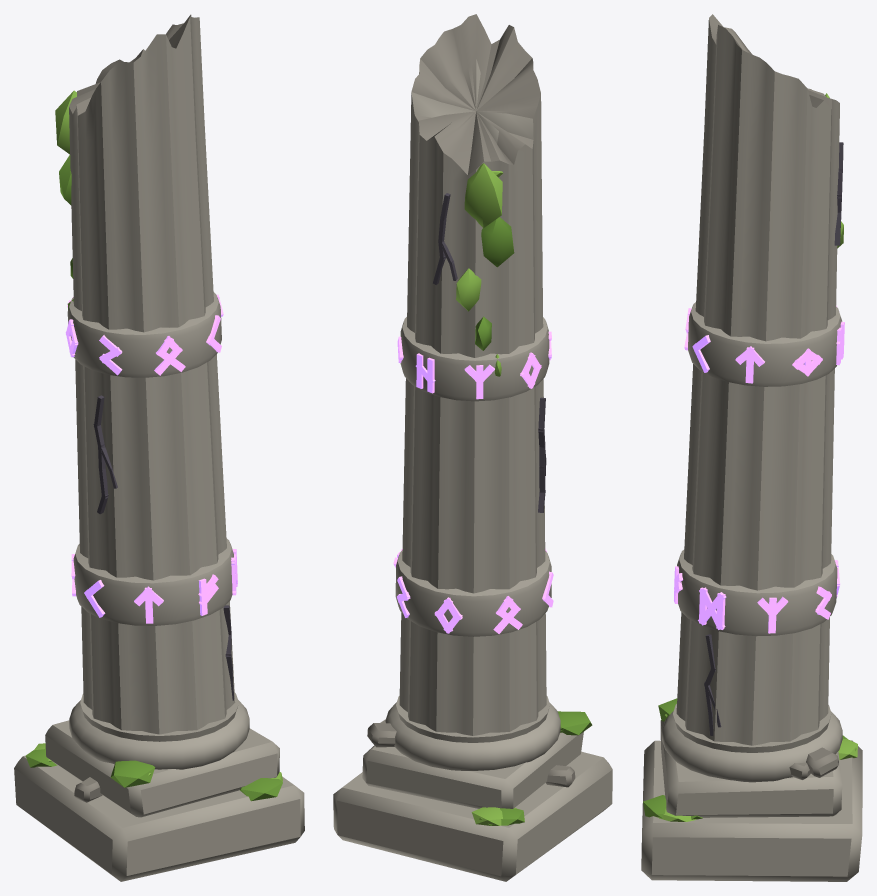
Rendered from ruin_pillar.glb.
3 views of the same model, side by side, from view 1: azimuth 30°, elevation 25°; view 2: azimuth 150°, elevation 25°; view 3: azimuth 270°, elevation 25° (orthographic). The views are drawn at different scales.
Parts seen in each view (by area): view 1: RuinPillar; view 2: RuinPillar; view 3: RuinPillar.
Boxes of the visible parts, x1,y1,x2,y2 form: RuinPillar: (14,14,304,881); RuinPillar: (333,14,612,881); RuinPillar: (641,14,862,881).
Size of what is drawn, in the model's own units: 1.22 by 5.02 by 1.23.
